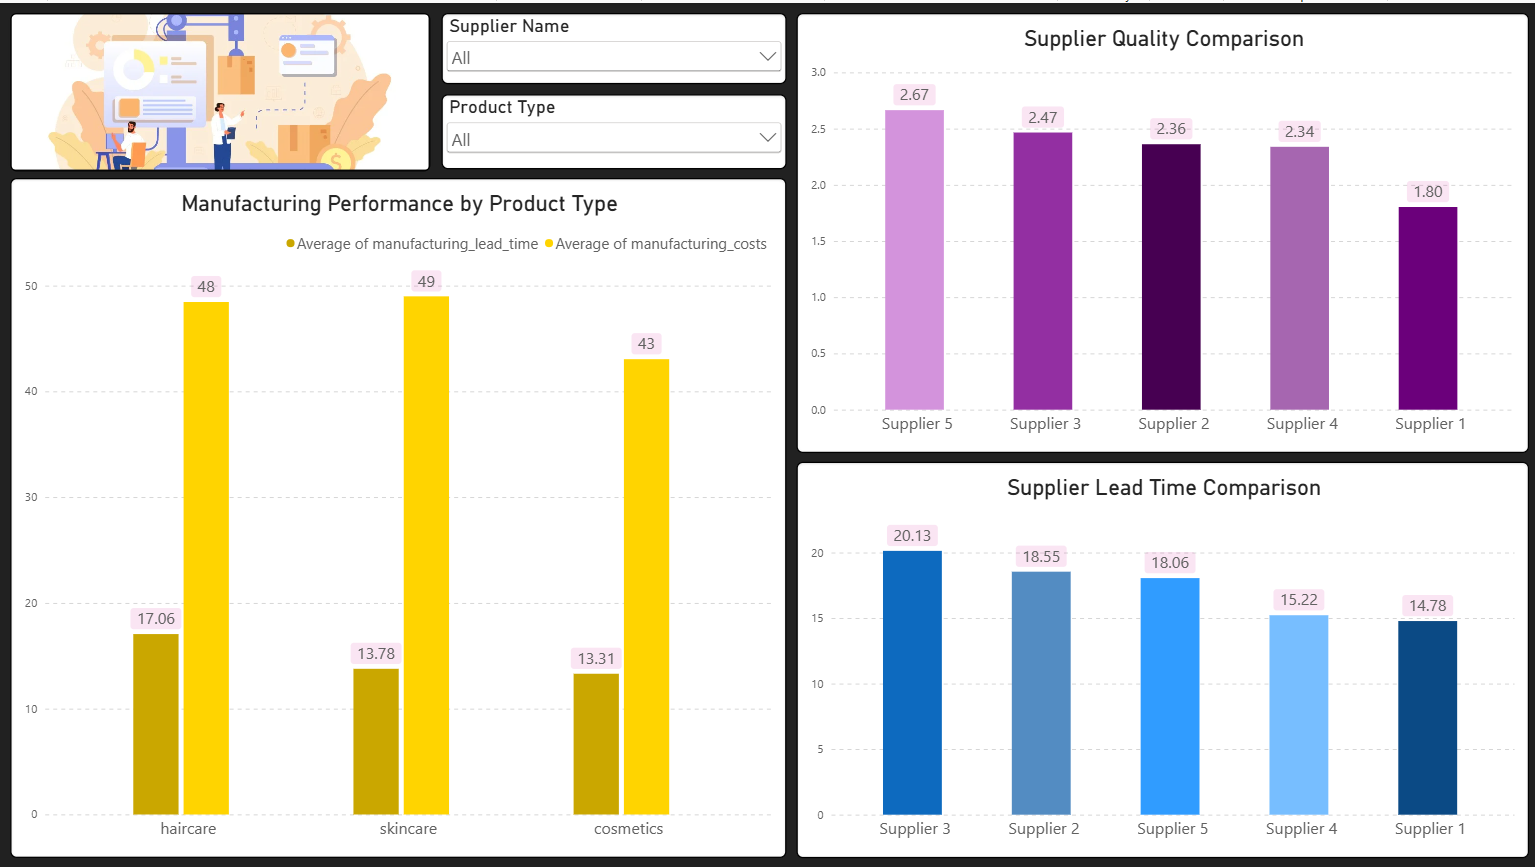

The dashboard page shown, as its layout file describes it:
{"tool":"powerbi","page":{"name":"Supplier & Manufacturing Performance","canvas":[1920,1080],"ordinal":1},"visuals":[{"type":"clusteredColumnChart","title":"Supplier Lead Time Comparison","fields":{"Category":["public supply_chain_raw.supplier_name"],"Y":["Avg(public supply_chain_raw.lead_time)"]},"box":[994.6,572.1,913.5,494.2],"z":0},{"type":"clusteredColumnChart","title":"Supplier Quality Comparison","fields":{"Category":["public supply_chain_raw.supplier_name"],"Y":["Avg(public supply_chain_raw.defect_rates)"]},"box":[994.6,12.5,913.5,548.7],"z":1000},{"type":"clusteredColumnChart","title":"Manufacturing Performance by Product Type","fields":{"Category":["public supply_chain_raw.product_type"],"Y":["Avg(public supply_chain_raw.manufacturing_lead_time)","Avg(public supply_chain_raw.manufacturing_costs)"]},"box":[14,218.2,968.1,848],"z":2000},{"type":"slicer","fields":{"Values":["public supply_chain_raw.product_type"]},"box":[551.9,113.8,430.3,93.5],"z":3000},{"type":"image","box":[14,12.5,523.8,198],"z":4000},{"type":"slicer","fields":{"Values":["public supply_chain_raw.supplier_name"]},"box":[551.9,12.5,430.3,88.9],"z":5000}]}

Visuals, with their boxes in screenshot pixels (x1, y1, x2, y2), scaled from the page's 1920x1080 canvas onto the 1535x867 screenshot:
"Supplier Lead Time Comparison" clusteredColumnChart: l=795, t=459, r=1525, b=856
"Supplier Quality Comparison" clusteredColumnChart: l=795, t=10, r=1525, b=451
"Manufacturing Performance by Product Type" clusteredColumnChart: l=11, t=175, r=785, b=856
slicer - public supply_chain_raw.product_type: l=441, t=91, r=785, b=166
image: l=11, t=10, r=430, b=169
slicer - public supply_chain_raw.supplier_name: l=441, t=10, r=785, b=81
